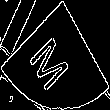M_NE: (30, 21, 80, 89)
